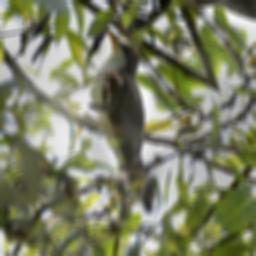Cuckoo: (0, 21, 231, 256)
